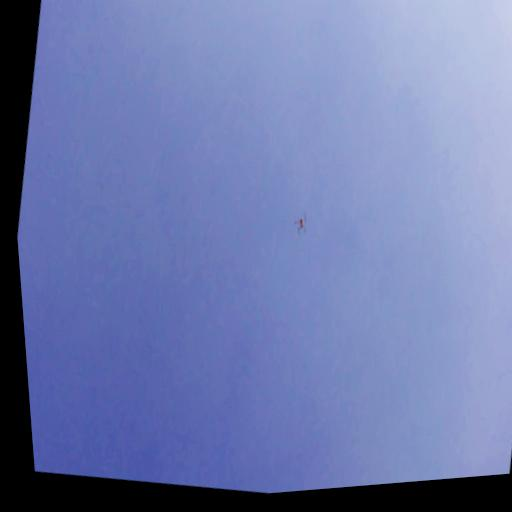drones: (289, 208, 310, 239)
